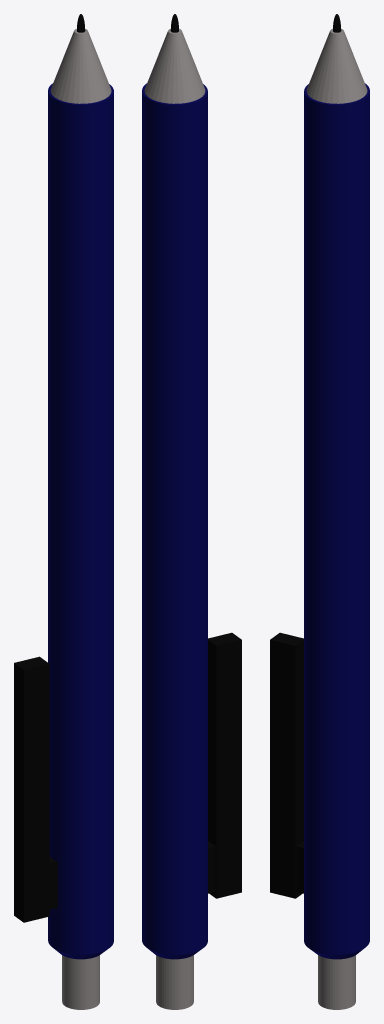
File: pen.fbx
3 views of the same model, side by side, from view 1: azimuth 30°, elevation 25°; view 2: azimuth 210°, elevation 25°; view 3: azimuth 330°, elevation 25° (orthographic).
Visible parts, largest first — view 1: Cylinder, Cube, Cone, Cylinder.001, Cube.001; view 2: Cylinder, Cube, Cone, Cylinder.001, Cube.001; view 3: Cylinder, Cube, Cone, Cylinder.001, Cube.001.
Part boxes in pixels (x1,y1,x2,y2): Cylinder: (48, 83, 113, 959); Cube: (14, 656, 49, 922); Cone: (50, 28, 111, 103); Cylinder.001: (62, 955, 99, 1009); Cube.001: (49, 856, 57, 909); Cylinder: (142, 83, 207, 959); Cube: (208, 632, 241, 898); Cone: (144, 28, 205, 103); Cylinder.001: (156, 955, 193, 1009); Cube.001: (208, 841, 215, 893); Cylinder: (304, 83, 369, 959); Cube: (270, 632, 303, 898); Cone: (306, 28, 367, 103); Cylinder.001: (318, 955, 355, 1009); Cube.001: (296, 841, 303, 893).
Bounding box in the file's own units: 49.78 × 520 × 32.05.
